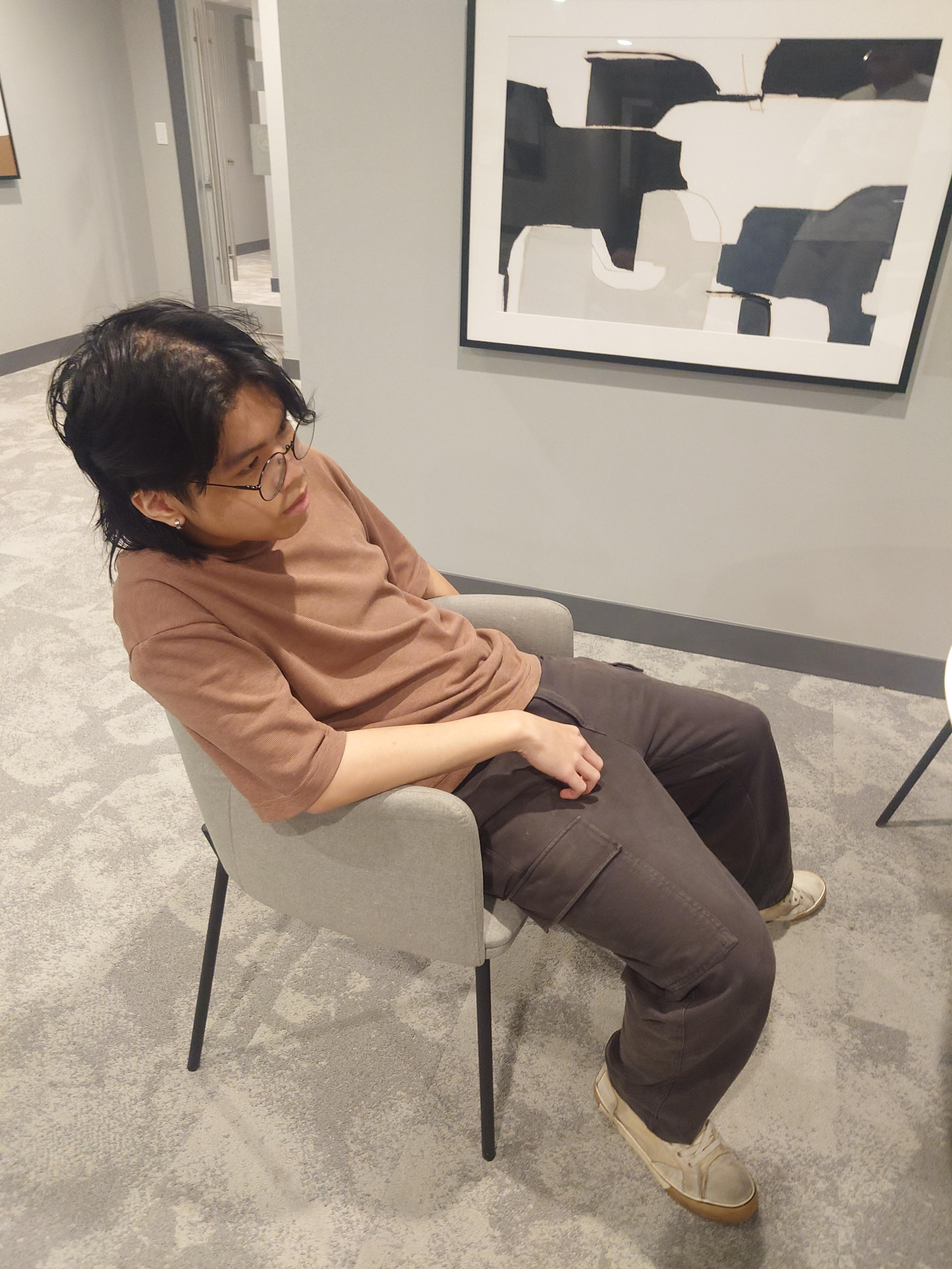BadPosture: (48, 296, 834, 1222)
